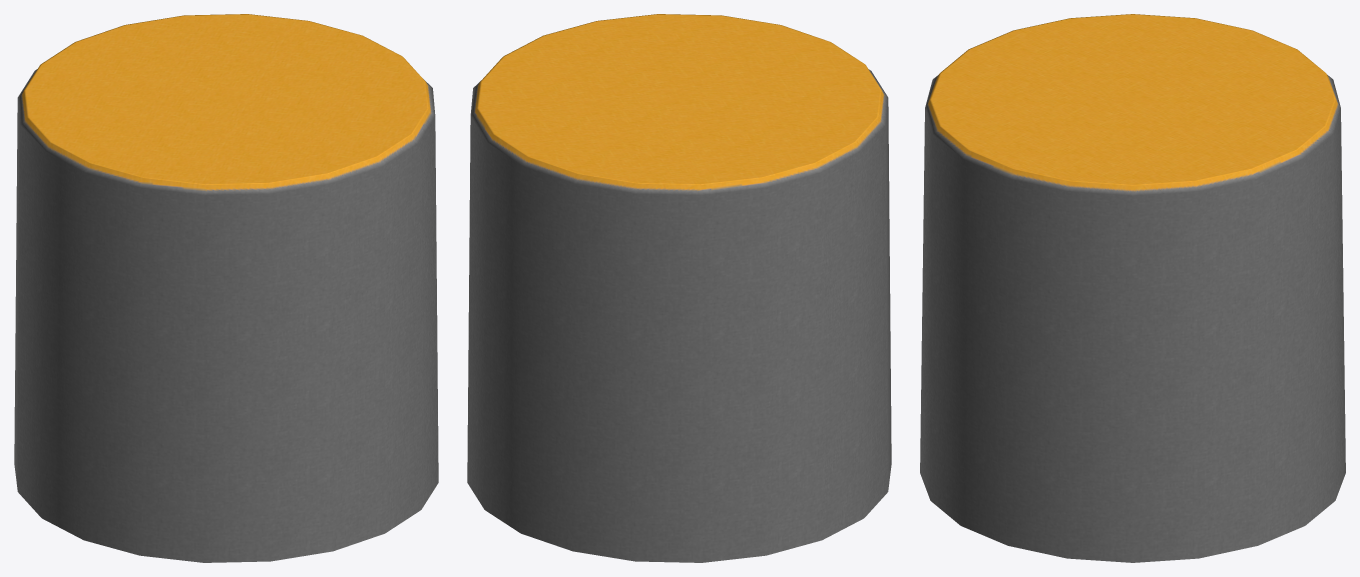
The model's file is Pouf.fbx.
3 renders of one model, left to right at view 1: azimuth 30°, elevation 25°; view 2: azimuth 150°, elevation 25°; view 3: azimuth 270°, elevation 25°, orthographic.
Visible parts, largest first — view 1: Pouf; view 2: Pouf; view 3: Pouf.
Boxes of the visible parts, left/top/right/bottom form: Pouf: left=14, top=14, right=438, bottom=562; Pouf: left=467, top=14, right=891, bottom=562; Pouf: left=920, top=14, right=1345, bottom=562.
Size of the model in its own units: 48.01 by 46.59 by 48.01.
